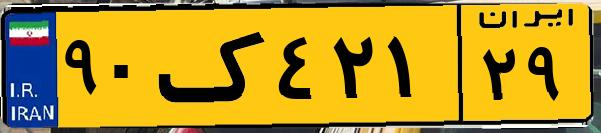0: (110, 28, 158, 98)
1: (385, 28, 445, 110)
2: (330, 28, 385, 110), (475, 38, 525, 113)
4: (270, 28, 330, 110)
9: (57, 26, 110, 100), (525, 38, 570, 115)
ک: (158, 12, 270, 120)
